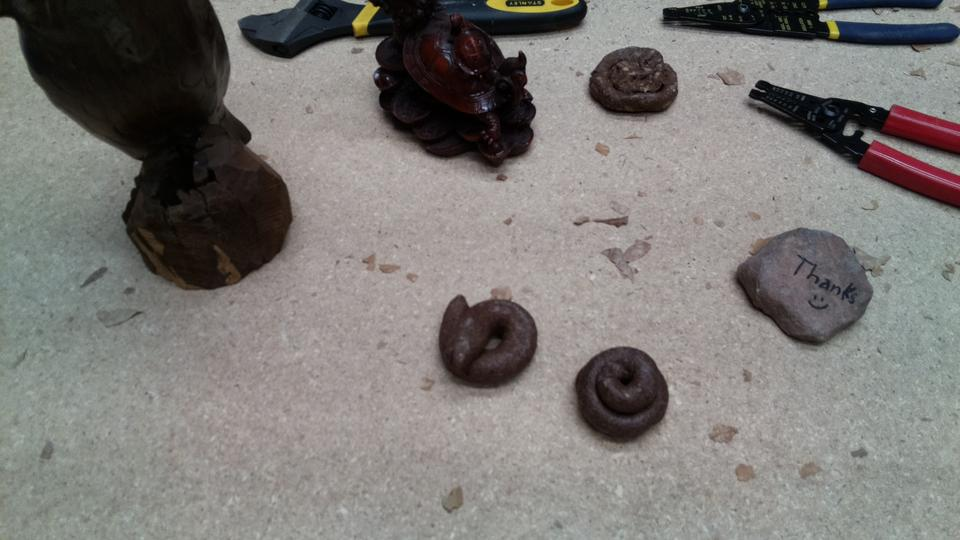poop: (432, 291, 543, 391), (570, 342, 674, 443), (586, 42, 684, 119)
